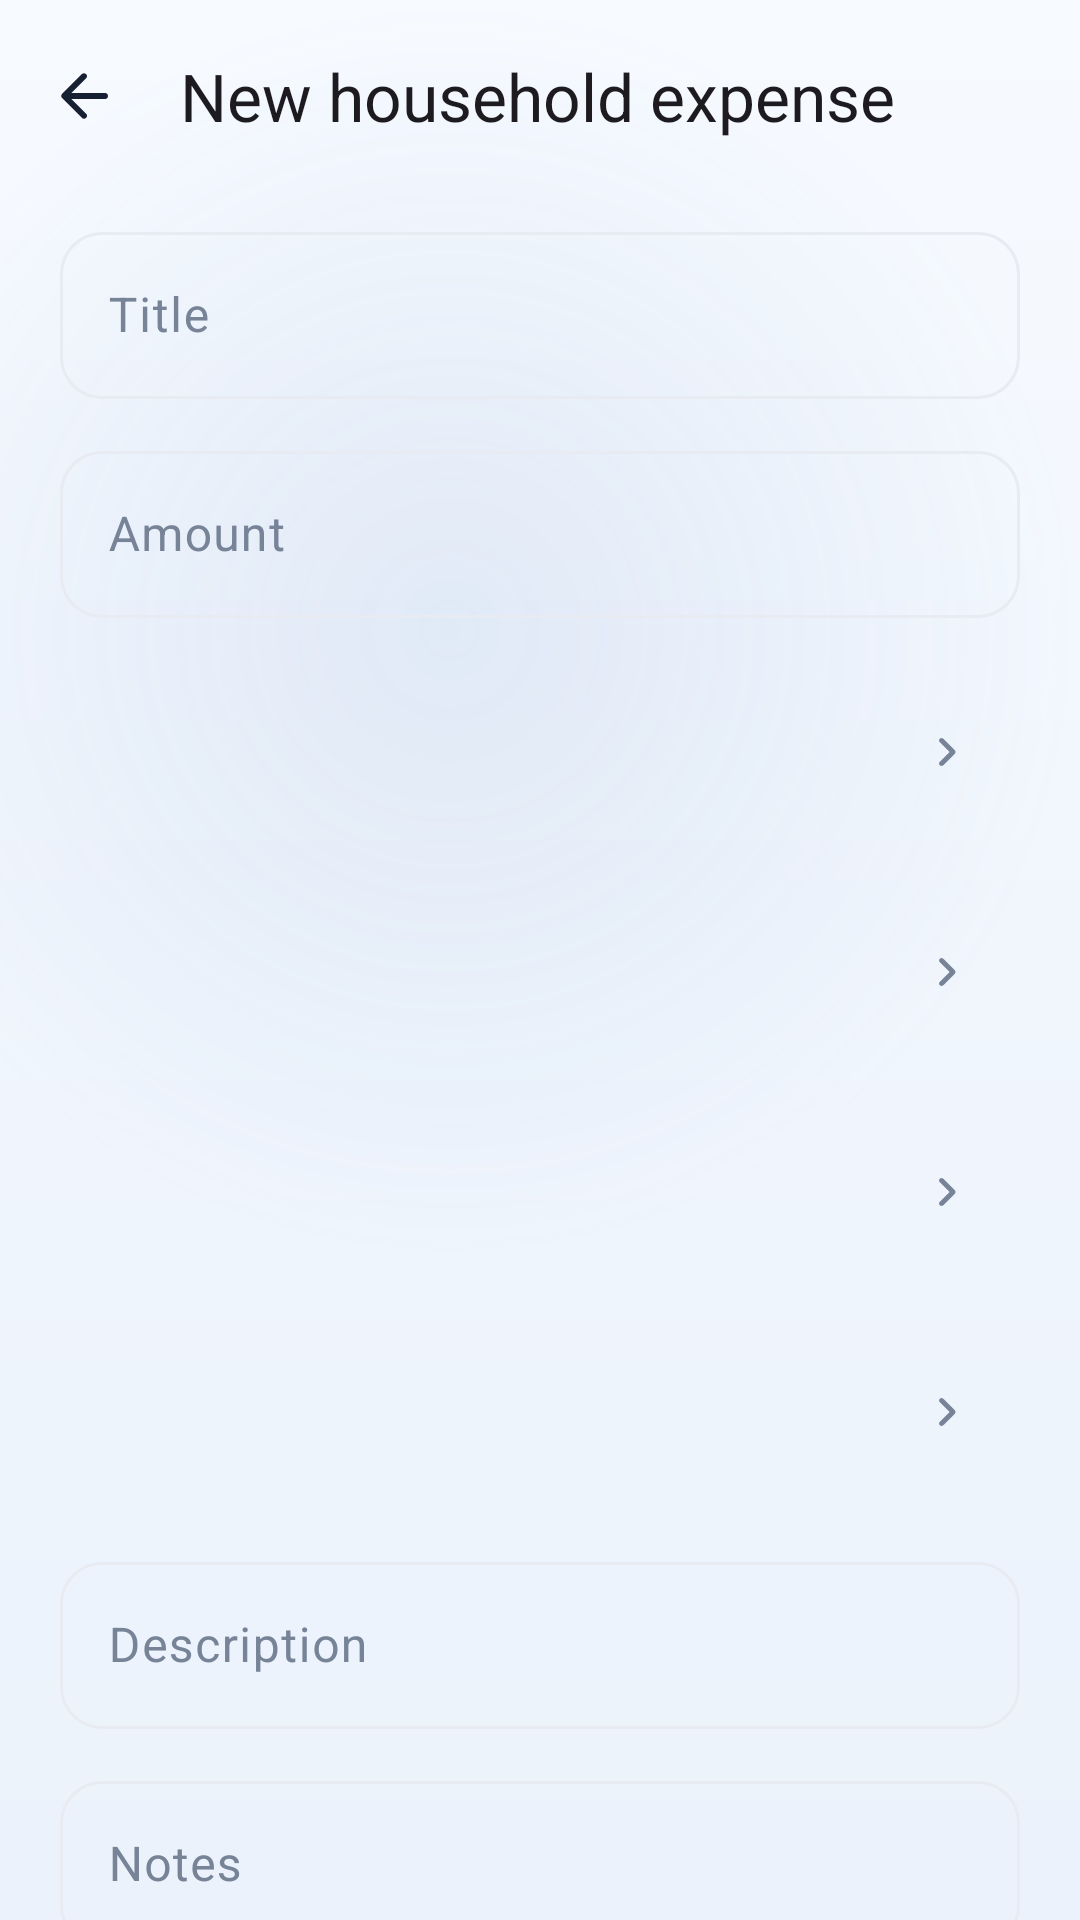

Where icons sit on this 1080w x 1920h app screen, as {"x1": x1, "y1": y1, "x2": x2, "y2": y2}:
chevron right: {"x1": 939, "y1": 738, "x2": 956, "y2": 766}, {"x1": 939, "y1": 958, "x2": 956, "y2": 986}, {"x1": 939, "y1": 1178, "x2": 956, "y2": 1206}, {"x1": 939, "y1": 1398, "x2": 956, "y2": 1426}
